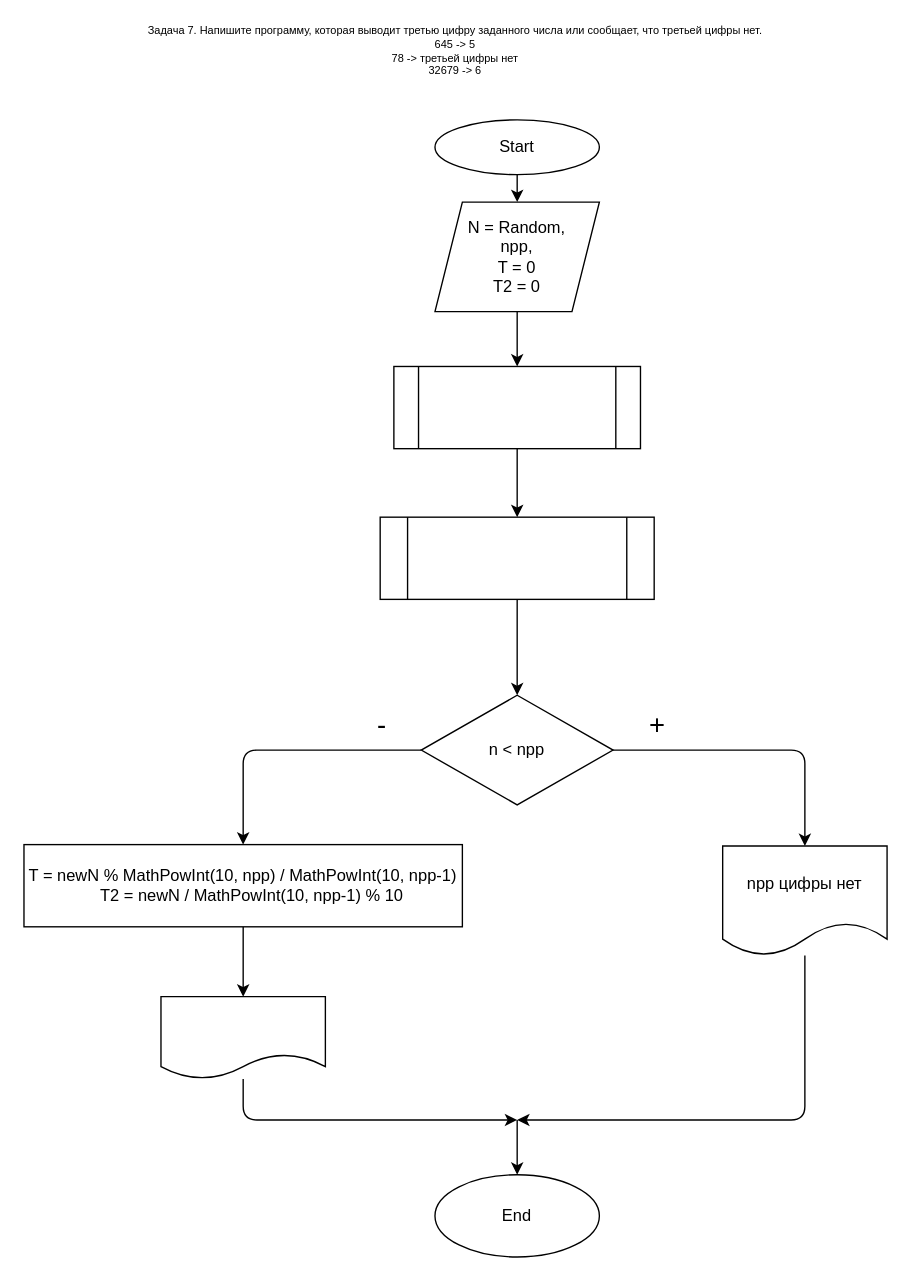
Image size: 911x1281. Some labels were removed from this diagram. The centre of each missing label's shape, as x and y in pixels:
"n = LengthNumber ( N )" belongs at point 516,557.
"newN = Perevorot (N)" belongs at point 516,407.
"T T2" belongs at point 242,1037.
